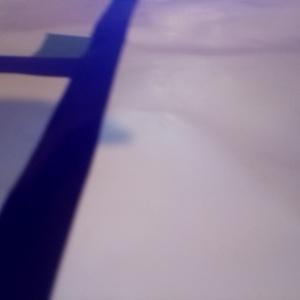top_left: (34, 34, 112, 78)
